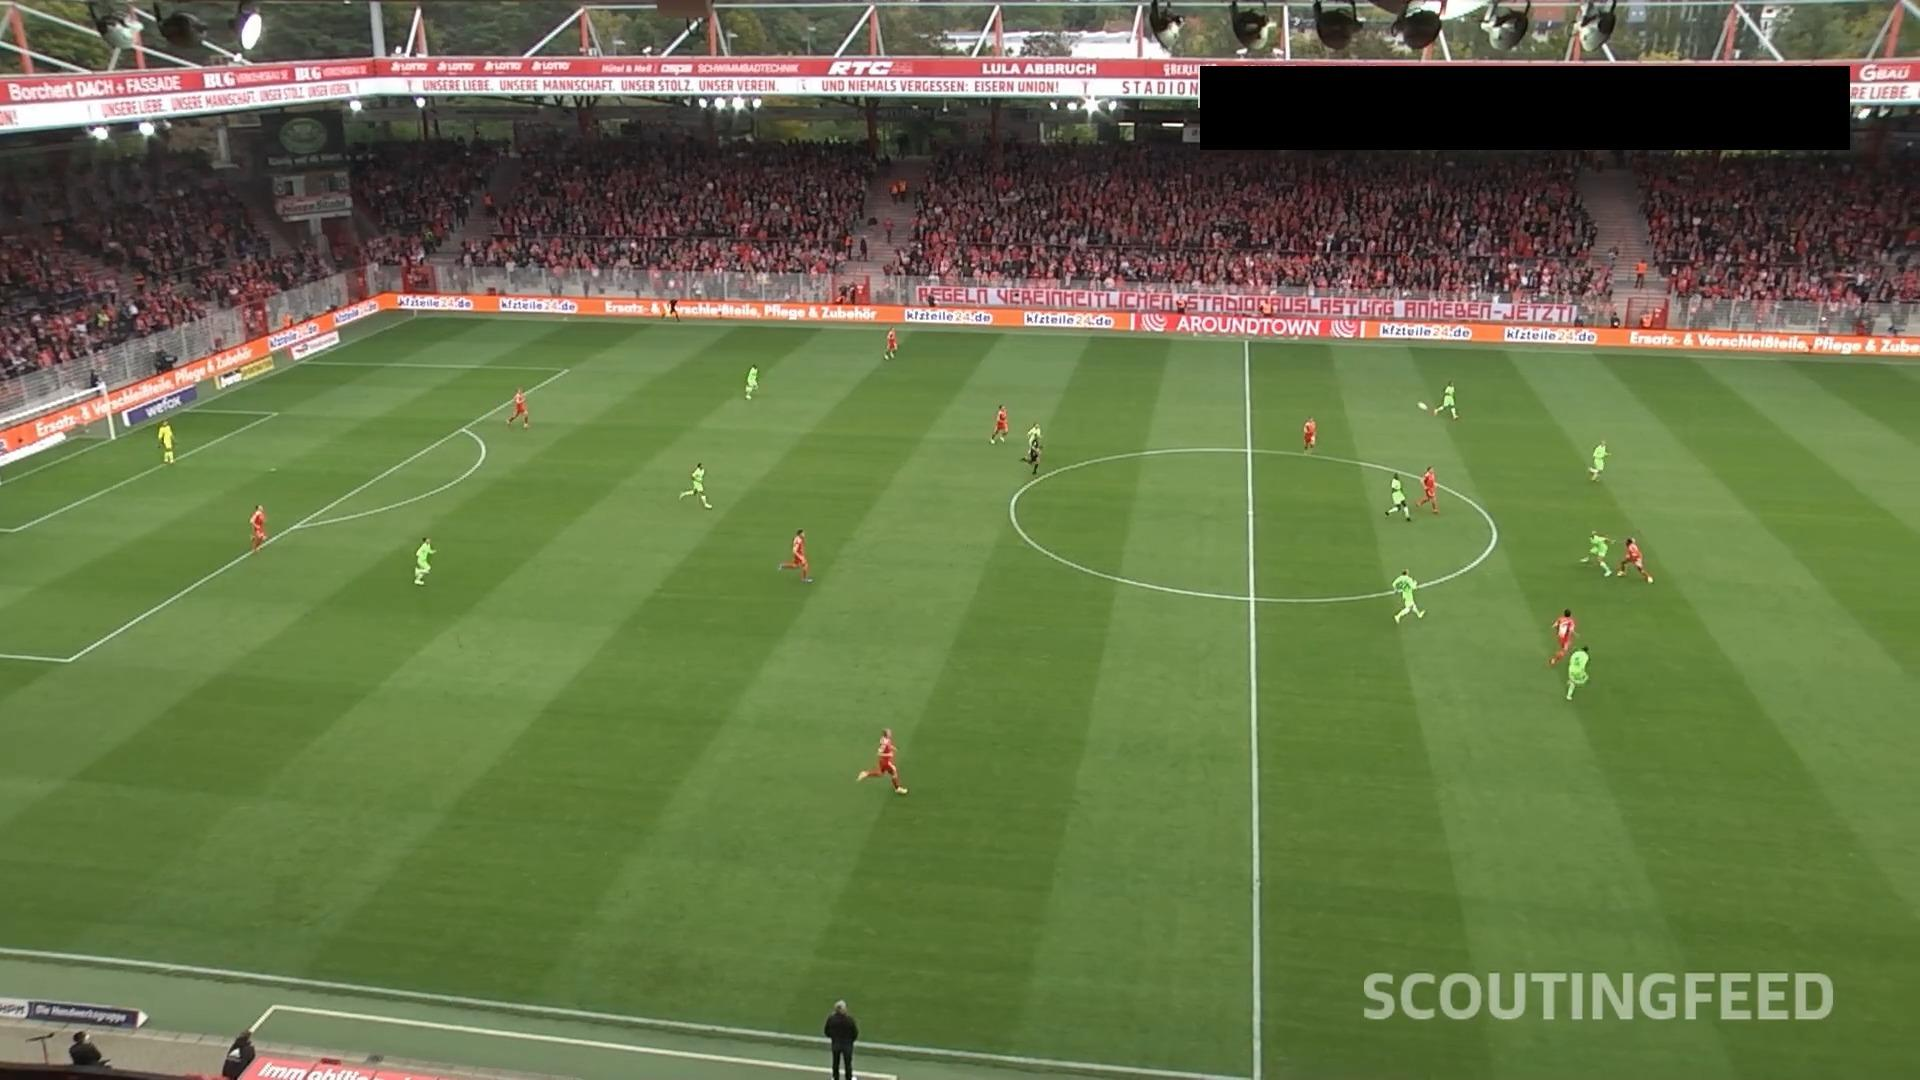ball: (1416, 401, 1428, 411)
